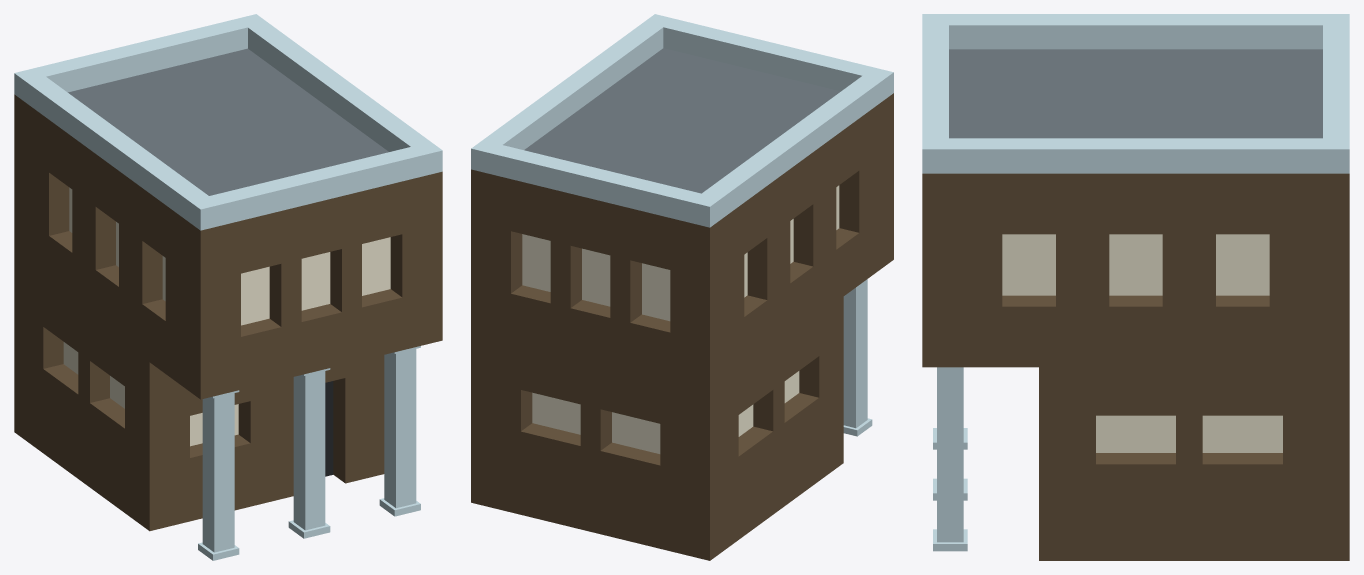
File: Building_7 (Brown).obj
The picture shows the model from 3 angles, left to right: view 1: azimuth 30°, elevation 25°; view 2: azimuth 150°, elevation 25°; view 3: azimuth 270°, elevation 25°; orthographic projection. The views are drawn at different scales.
Visible parts, largest first — view 1: Building_7_(Brown); view 2: Building_7_(Brown); view 3: Building_7_(Brown).
Part boxes in pixels (x1=…): Building_7_(Brown): x1=14, y1=14, x2=442, y2=560; Building_7_(Brown): x1=471, y1=14, x2=893, y2=560; Building_7_(Brown): x1=922, y1=14, x2=1349, y2=560.
Bounding box in the file's own units: 1.2 × 1.7 × 1.6.
